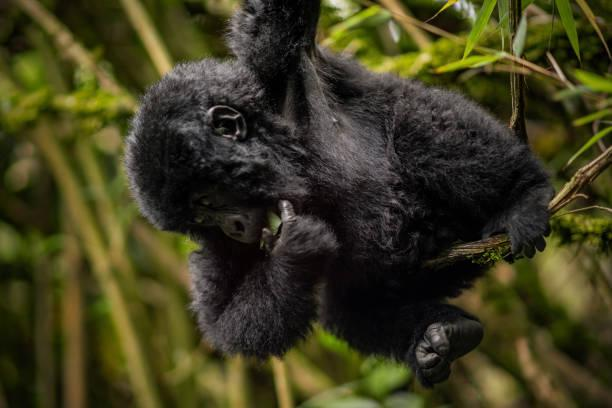goriile_montagne: (94, 0, 560, 399)
